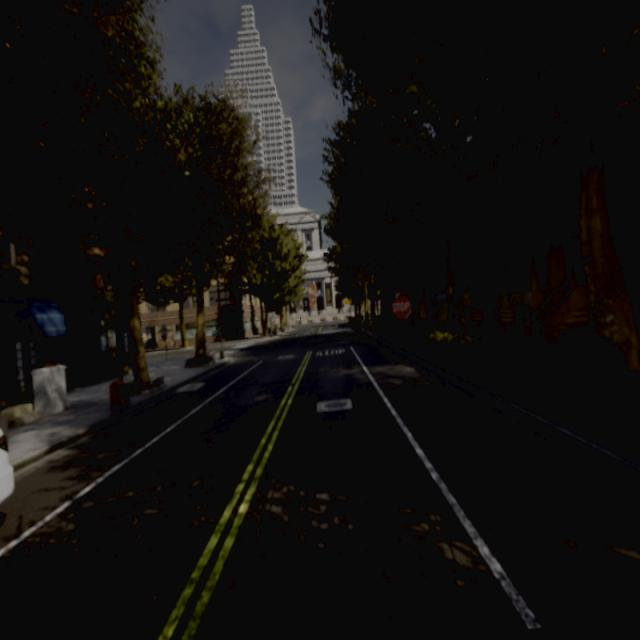stop sign: (388, 288, 414, 322)
